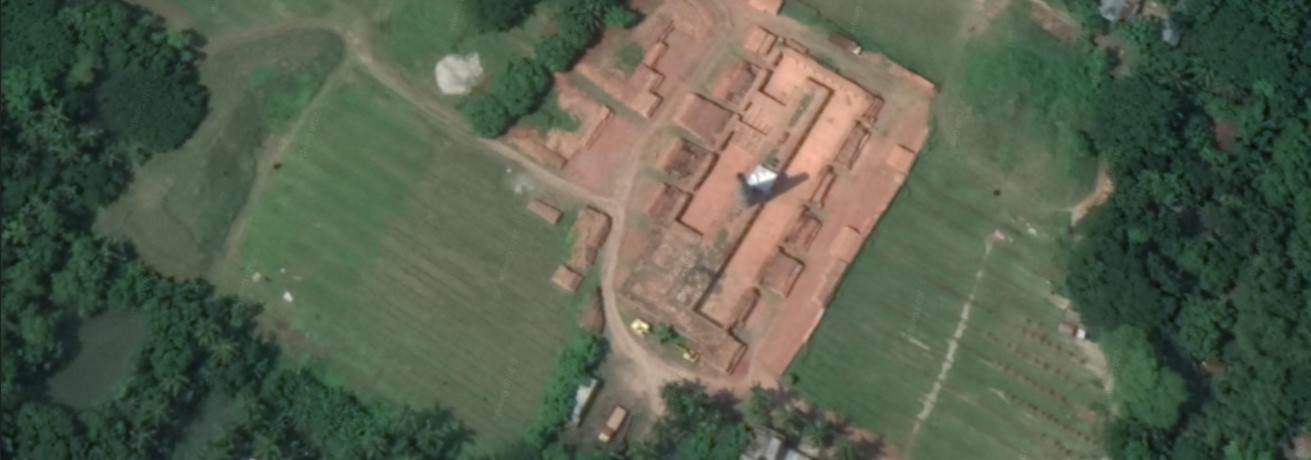kiln: (639, 83, 901, 319)
